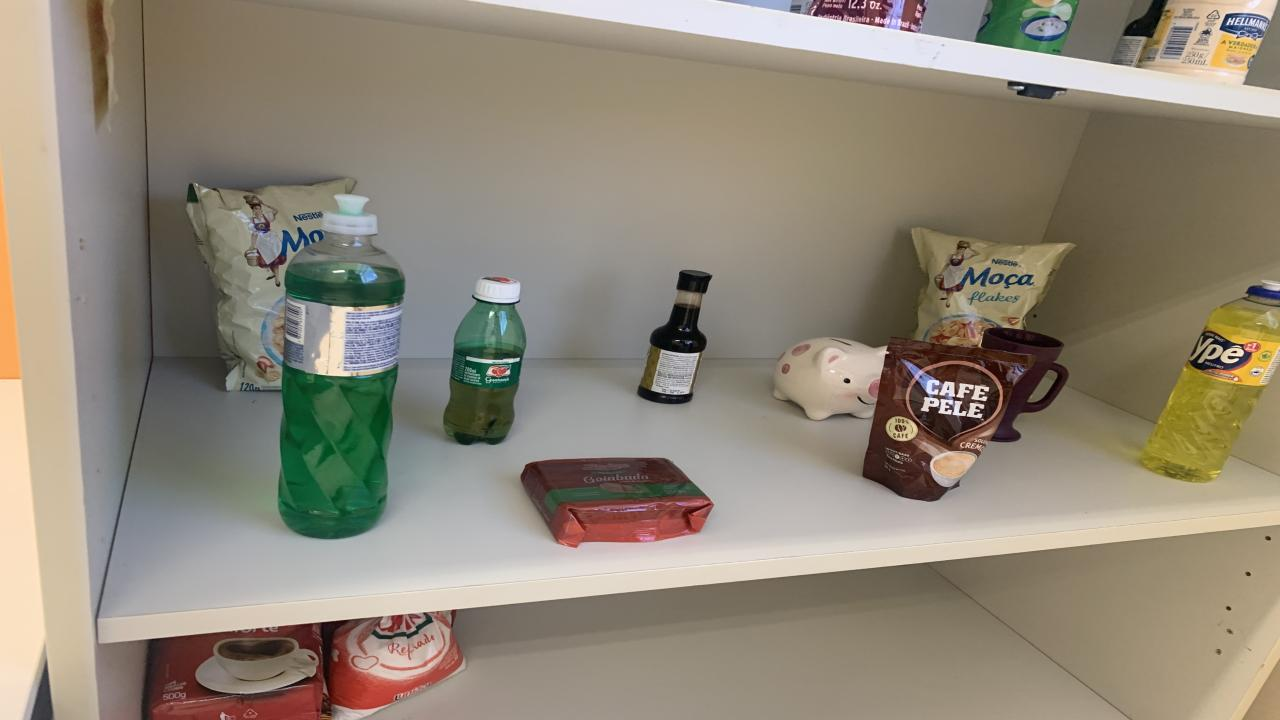Coffee-Pantry_Items: (862, 338, 1032, 501)
Detergent-Cleanup_Items: (278, 193, 405, 538), (1140, 279, 1280, 482)
English_Sauce-Pantry_Items: (638, 270, 712, 403), (1110, 0, 1168, 68)
Flakes-Snacks: (185, 178, 355, 392), (912, 227, 1075, 347)
Guarana-Drinks: (442, 276, 525, 444)
Guava-Snacks: (520, 458, 712, 548)
Mayonnaise-Pantry_Items: (1140, 0, 1278, 84)
Pig_Safe-Miscellaneous: (772, 338, 888, 420)
Pringles-Snacks: (975, 0, 1080, 54)
Tomato_Sauce-Pantry_Items: (808, 0, 928, 32)
